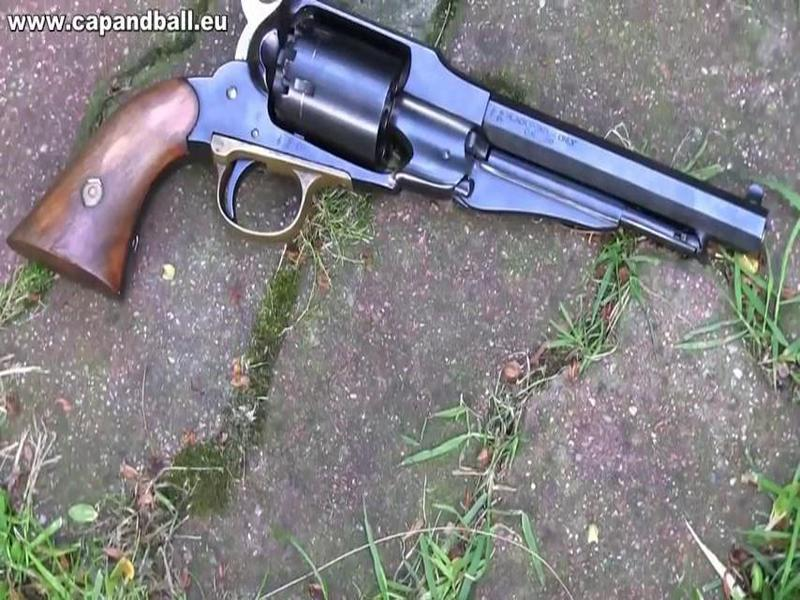Revolver: (17, 1, 785, 304)
